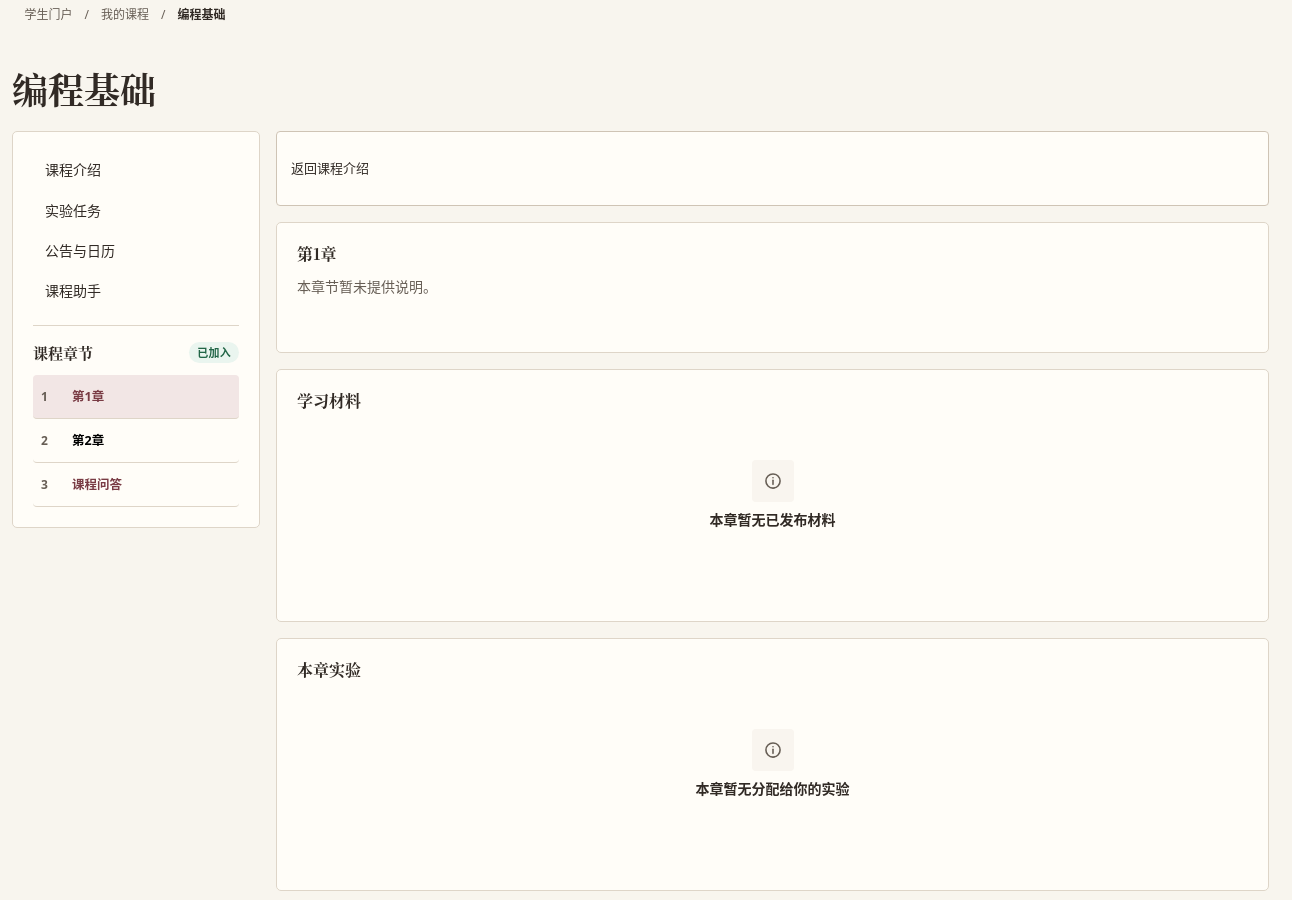
Scenario: 切换章节时回到新章节的开头（overflow-y: auto）
Check: the heading "第1章" is shown, box [297,243,336,265]
Click the button "2 第2章" at coordinates (136, 441), box [33,419,239,463]
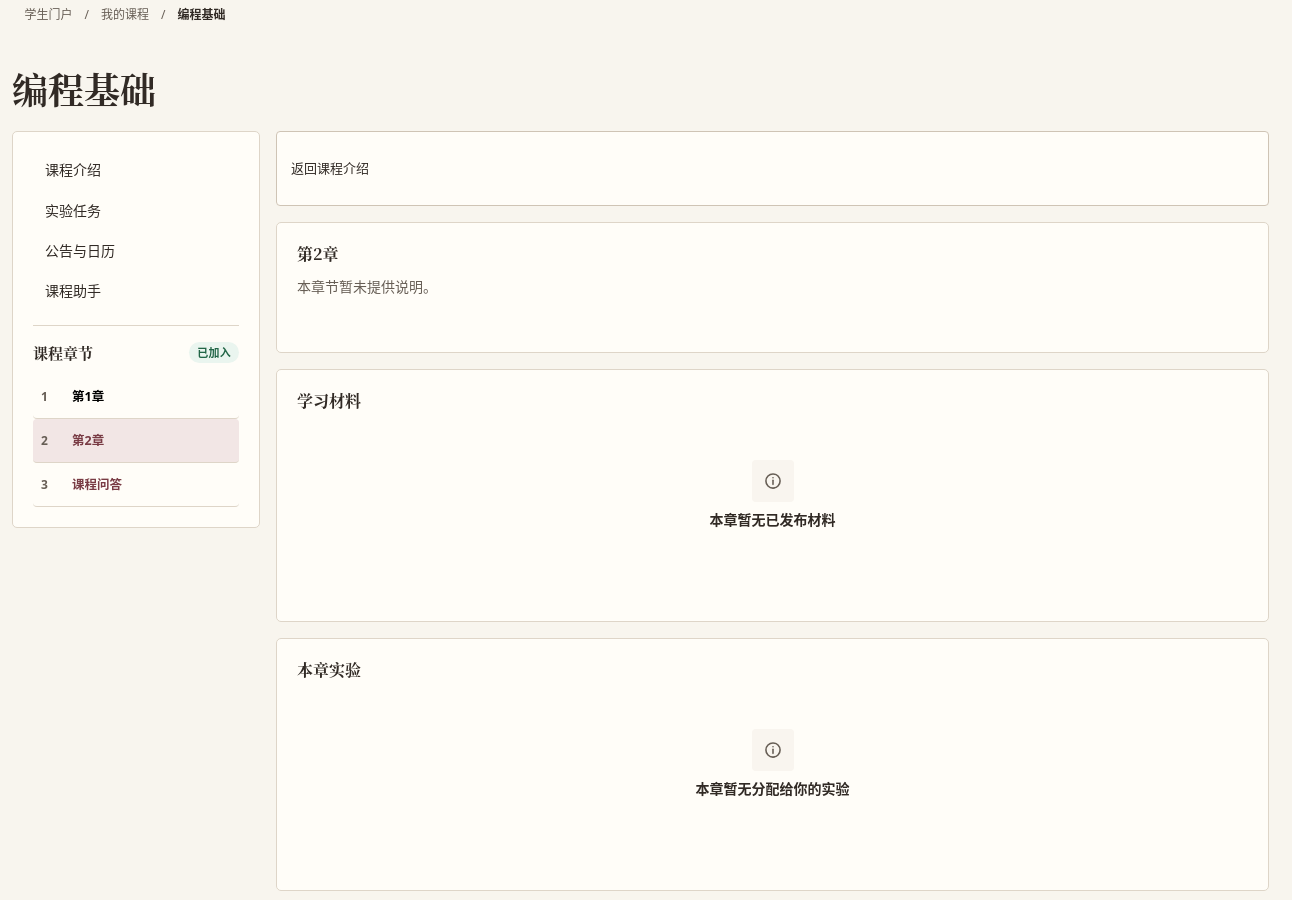
Check: the heading "第2章" is shown, box [297,243,338,265]
